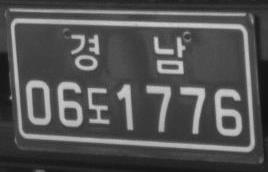0: (24, 78, 53, 126)
1: (115, 82, 138, 132)
6: (212, 87, 243, 138), (56, 80, 83, 128)
7: (178, 84, 206, 136), (145, 83, 172, 133)
경남_D: (69, 32, 186, 76)
도: (86, 86, 111, 124)
